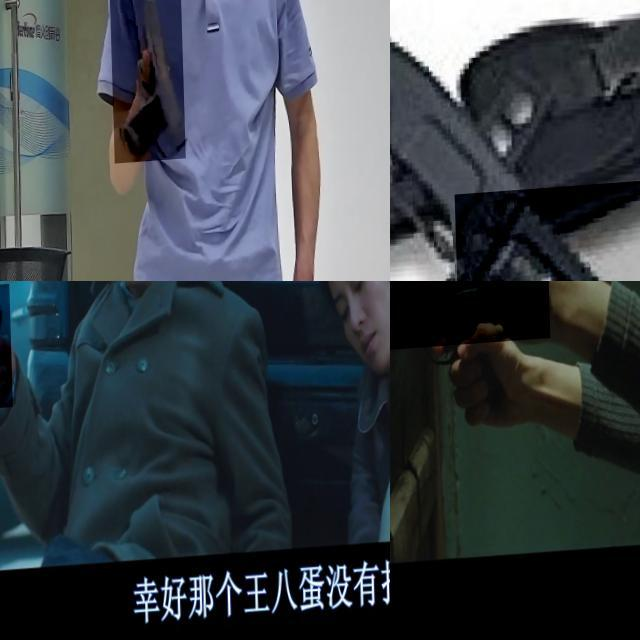-: (453, 186, 640, 281)
gun-knife-thesis - v11 Yolov5 augmented: (390, 281, 548, 394), (390, 281, 507, 425), (109, 0, 184, 166), (0, 284, 28, 411)
